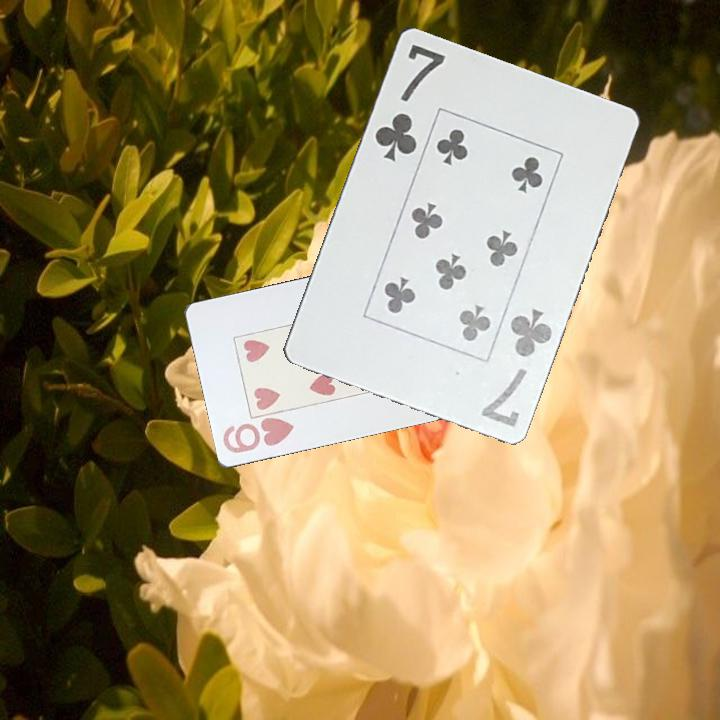6h: (219, 414, 297, 456)
7c: (477, 304, 555, 430), (371, 39, 448, 164)
